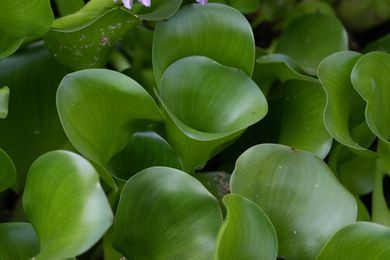water_hyacinth: (1, 1, 390, 259)
